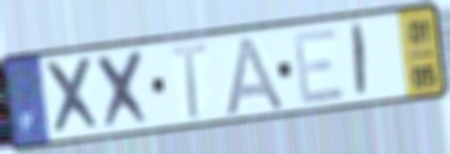A: (220, 32, 288, 119)
E: (290, 24, 348, 108)
I: (351, 20, 369, 101)
T: (167, 39, 210, 123)
X: (40, 54, 106, 139), (93, 47, 156, 133)
